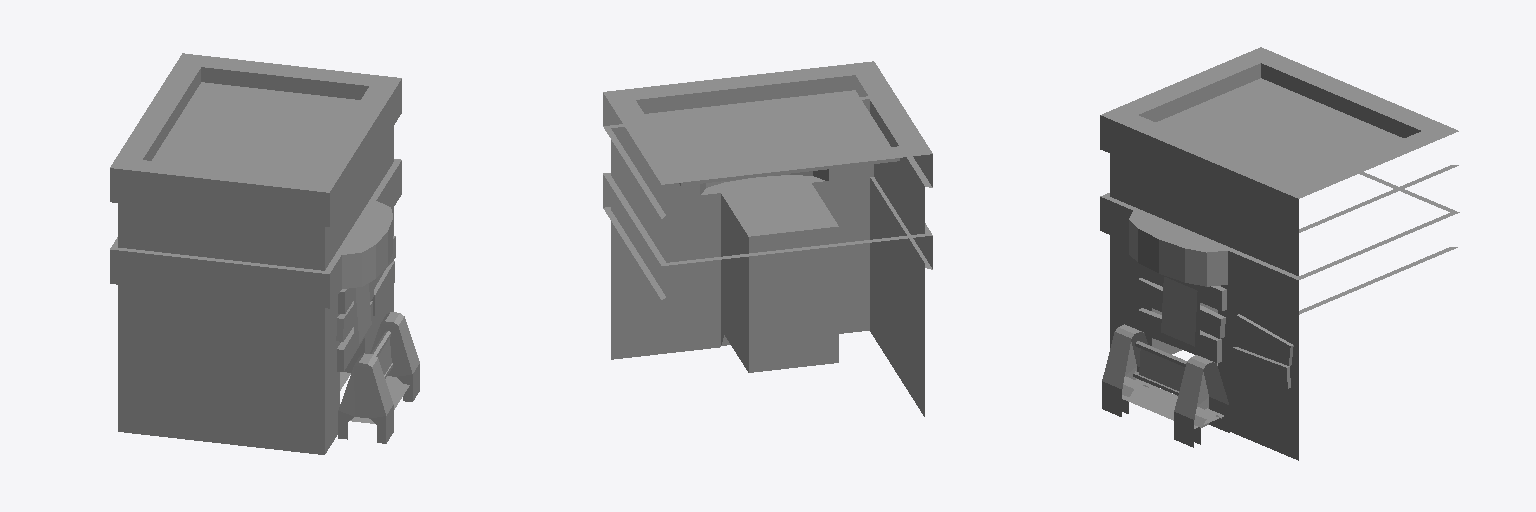
File: before_hospital.obj
The picture shows the model from 3 angles: view 1: azimuth 30°, elevation 25°; view 2: azimuth 150°, elevation 25°; view 3: azimuth 270°, elevation 25°; orthographic projection.
Visible parts, largest first — view 1: vsn_mesh_0_body_mesh_0_body.001, vsn_mesh_2_closed_sign_mesh_2_closed_sign, vsn_mesh_1_woods_mesh_1_woods, vsn_mesh_3_pPlane6_mesh_3_pPlane6; view 2: vsn_mesh_0_body_mesh_0_body.001; view 3: vsn_mesh_0_body_mesh_0_body.001, vsn_mesh_2_closed_sign_mesh_2_closed_sign, vsn_mesh_1_woods_mesh_1_woods, vsn_mesh_3_pPlane6_mesh_3_pPlane6.
Boxes of the visible parts, box(x1,y1,x2,y2) form: vsn_mesh_0_body_mesh_0_body.001: box(110, 53, 401, 454); vsn_mesh_2_closed_sign_mesh_2_closed_sign: box(338, 283, 419, 443); vsn_mesh_1_woods_mesh_1_woods: box(336, 236, 395, 371); vsn_mesh_3_pPlane6_mesh_3_pPlane6: box(350, 288, 409, 423); vsn_mesh_0_body_mesh_0_body.001: box(603, 61, 932, 416); vsn_mesh_0_body_mesh_0_body.001: box(1100, 47, 1459, 460); vsn_mesh_2_closed_sign_mesh_2_closed_sign: box(1102, 277, 1229, 447); vsn_mesh_1_woods_mesh_1_woods: box(1136, 265, 1293, 388); vsn_mesh_3_pPlane6_mesh_3_pPlane6: box(1122, 275, 1223, 428).
Size of the model in its own units: 1.52 by 1.24 by 1.52.